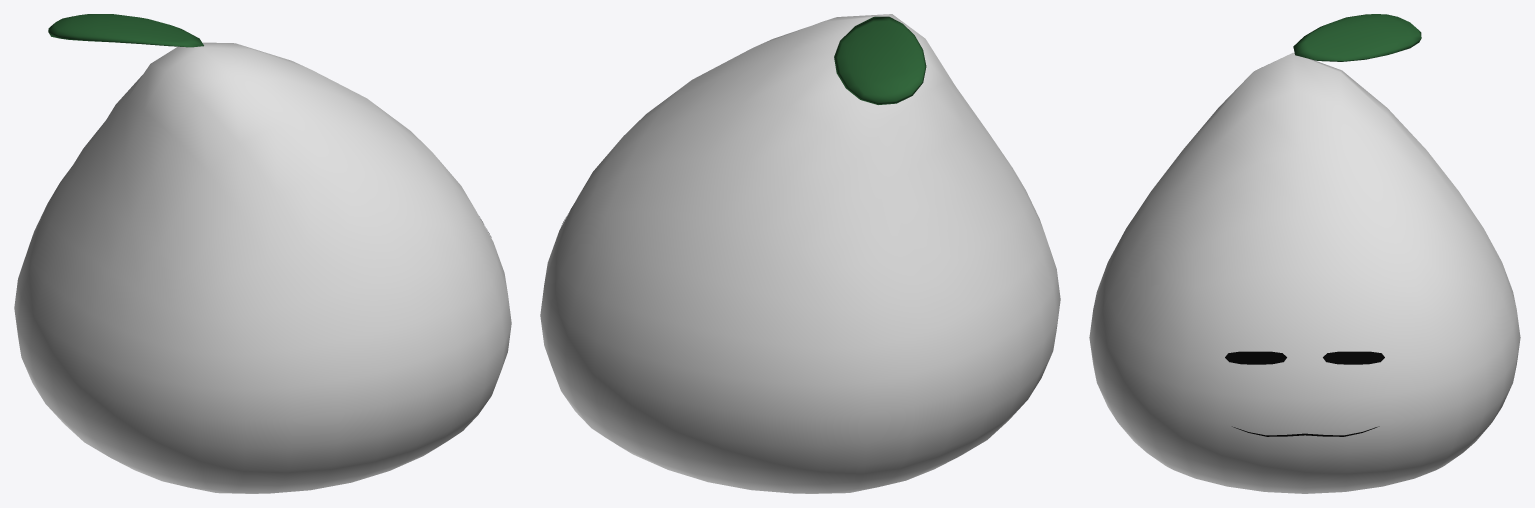
The model's file is PlantSlime.glb.
3 renders of one model, left to right at view 1: azimuth 30°, elevation 25°; view 2: azimuth 150°, elevation 25°; view 3: azimuth 270°, elevation 25°, orthographic. The views are drawn at different scales.
Parts seen in each view (by area): view 1: Body; view 2: Body; view 3: Body.
Part boxes in pixels (x1,y1,x2,y2): Body: (14, 14, 511, 493); Body: (540, 14, 1060, 493); Body: (1089, 14, 1520, 493).
Size of the model in its own units: 1.61 by 1.55 by 1.6.
